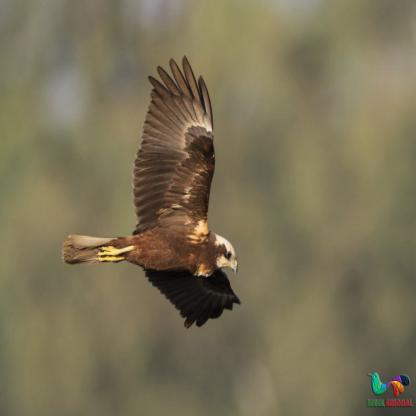Burung: (61, 56, 241, 328)
